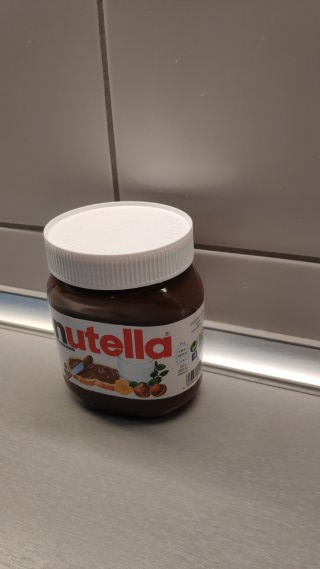nutella: (43, 200, 207, 422)
